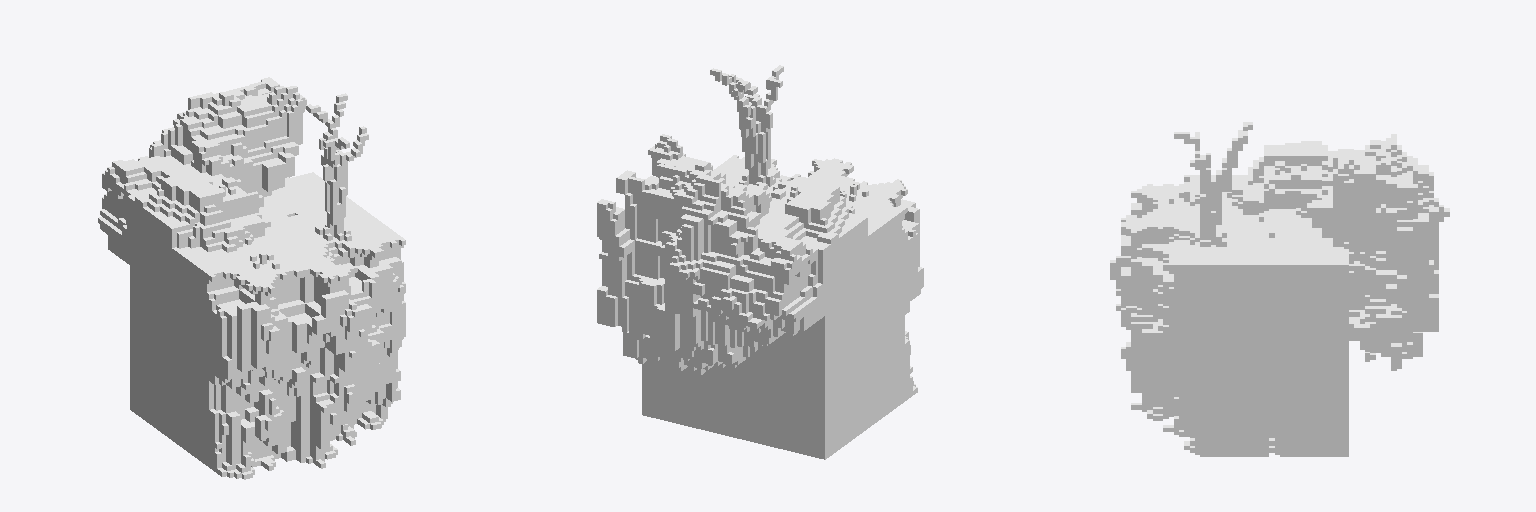
File: MountainRocks-0.obj
The picture shows the model from 3 angles: view 1: azimuth 30°, elevation 25°; view 2: azimuth 150°, elevation 25°; view 3: azimuth 270°, elevation 25°; orthographic projection.
Visible parts, largest first — view 1: object 1; view 2: object 1; view 3: object 1.
Part boxes in pixels (left/top/right/bottom): object 1: left=98, top=77, right=405, bottom=479; object 1: left=597, top=65, right=923, bottom=459; object 1: left=1110, top=122, right=1449, bottom=456.
Bounding box in the file's own units: 4 × 6.5 × 6.4.